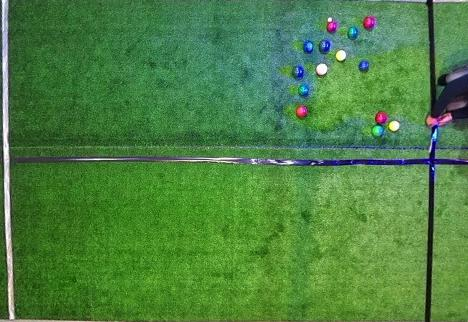blue: (303, 41, 314, 54), (358, 60, 369, 72)
green: (347, 27, 358, 40), (319, 40, 330, 52), (292, 66, 303, 78), (372, 125, 383, 137), (298, 85, 309, 96)
red: (363, 17, 375, 29), (375, 112, 387, 124), (316, 63, 327, 75), (326, 22, 337, 33), (296, 106, 307, 117)
vline: (424, 125, 468, 321), (0, 1, 18, 321), (427, 1, 467, 102)
white: (328, 17, 332, 22)
yellow: (389, 120, 400, 132), (336, 50, 346, 61)
